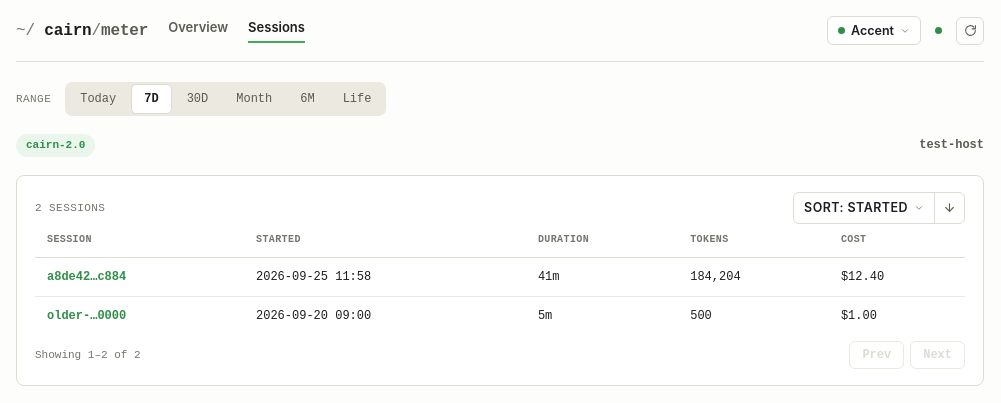
Test: SessionsList › S1: clicking the sort control shows the dropdown menu, and picking an option closes it
The width and height of the screenshot is (1001, 403).
Click the element with test id "sort-select".
click(865, 208)  # box [794,192,935,223]
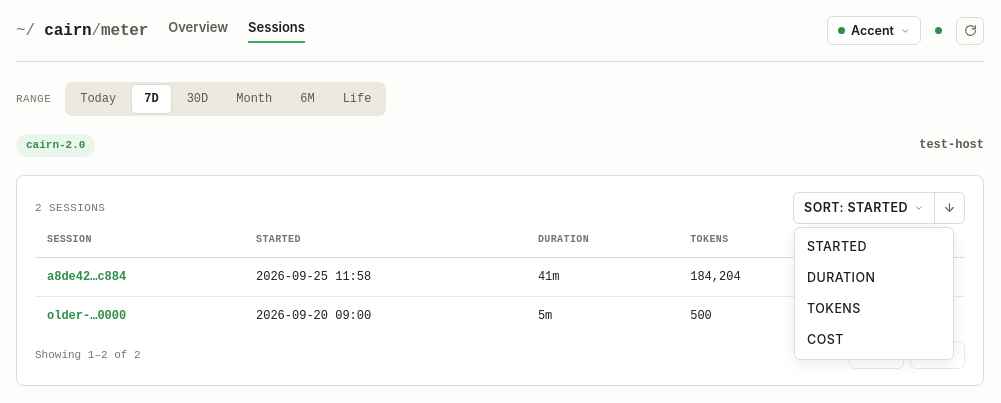
Now the element with test id "sort-menu" is shown, box [794,227,954,360]
Click the text with test id "sort-option-cost".
click(825, 339)  # box [807,332,844,346]
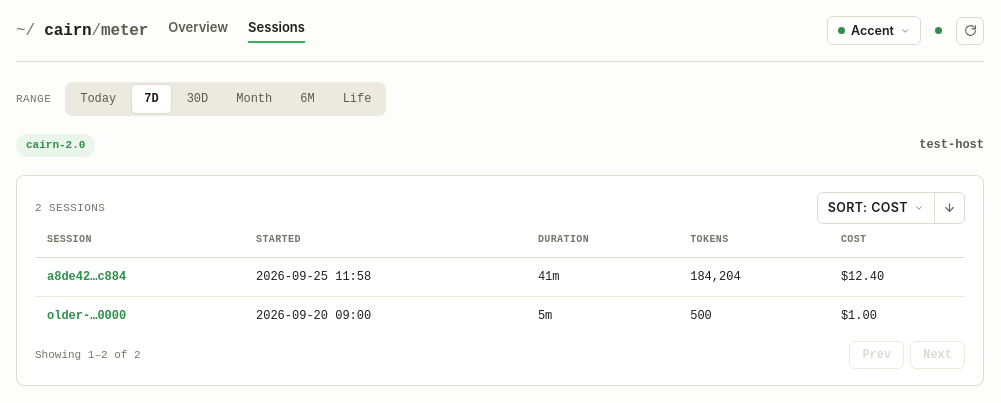
Now the element with test id "sort-menu" is gone
